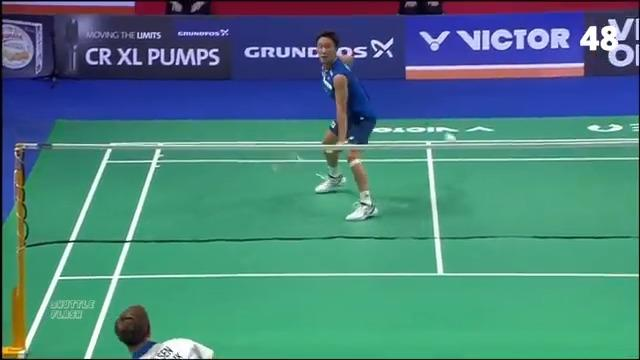Shuttlecock: (443, 130, 459, 146)
